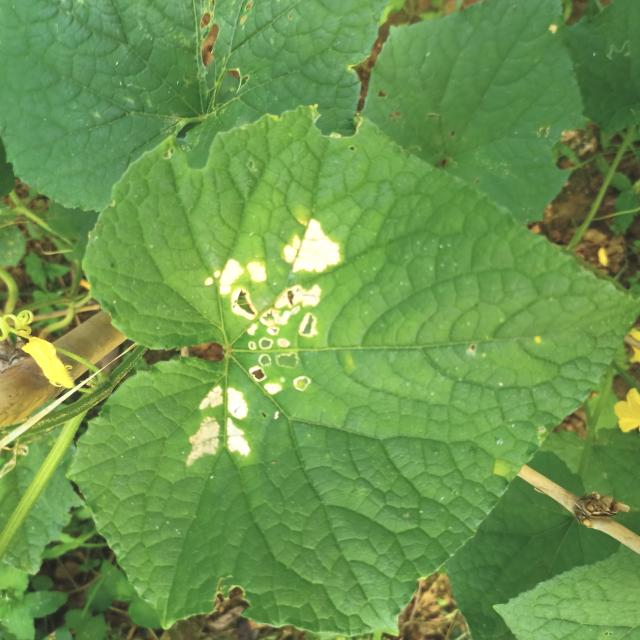disease_cucumber: (201, 209, 352, 400), (179, 382, 259, 467)
